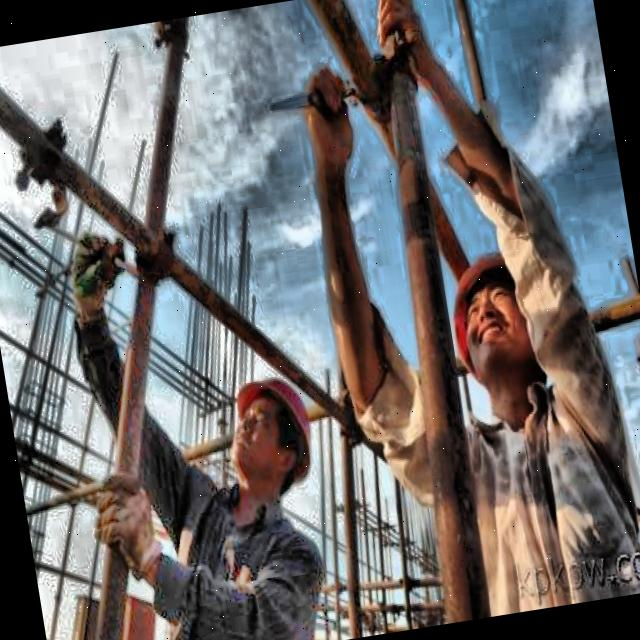helmet: (431, 237, 557, 409), (219, 364, 324, 505)
